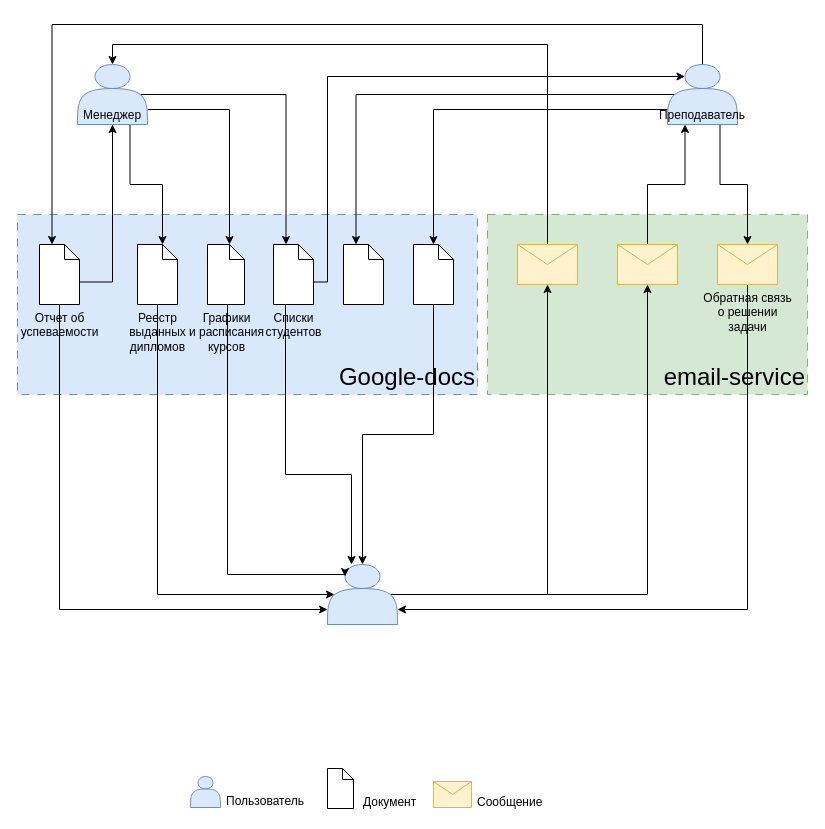
Some shapes in this 825 by 829 pixel diagram are drawn without their labels. Each missing label, with the centre of its shape:
Заявка на прохождение курсов: [547,264]
Критерии оценки задач: [363,274]
Решение задачи: [647,264]
Студент: [362,594]
Условия задач: [433,274]
